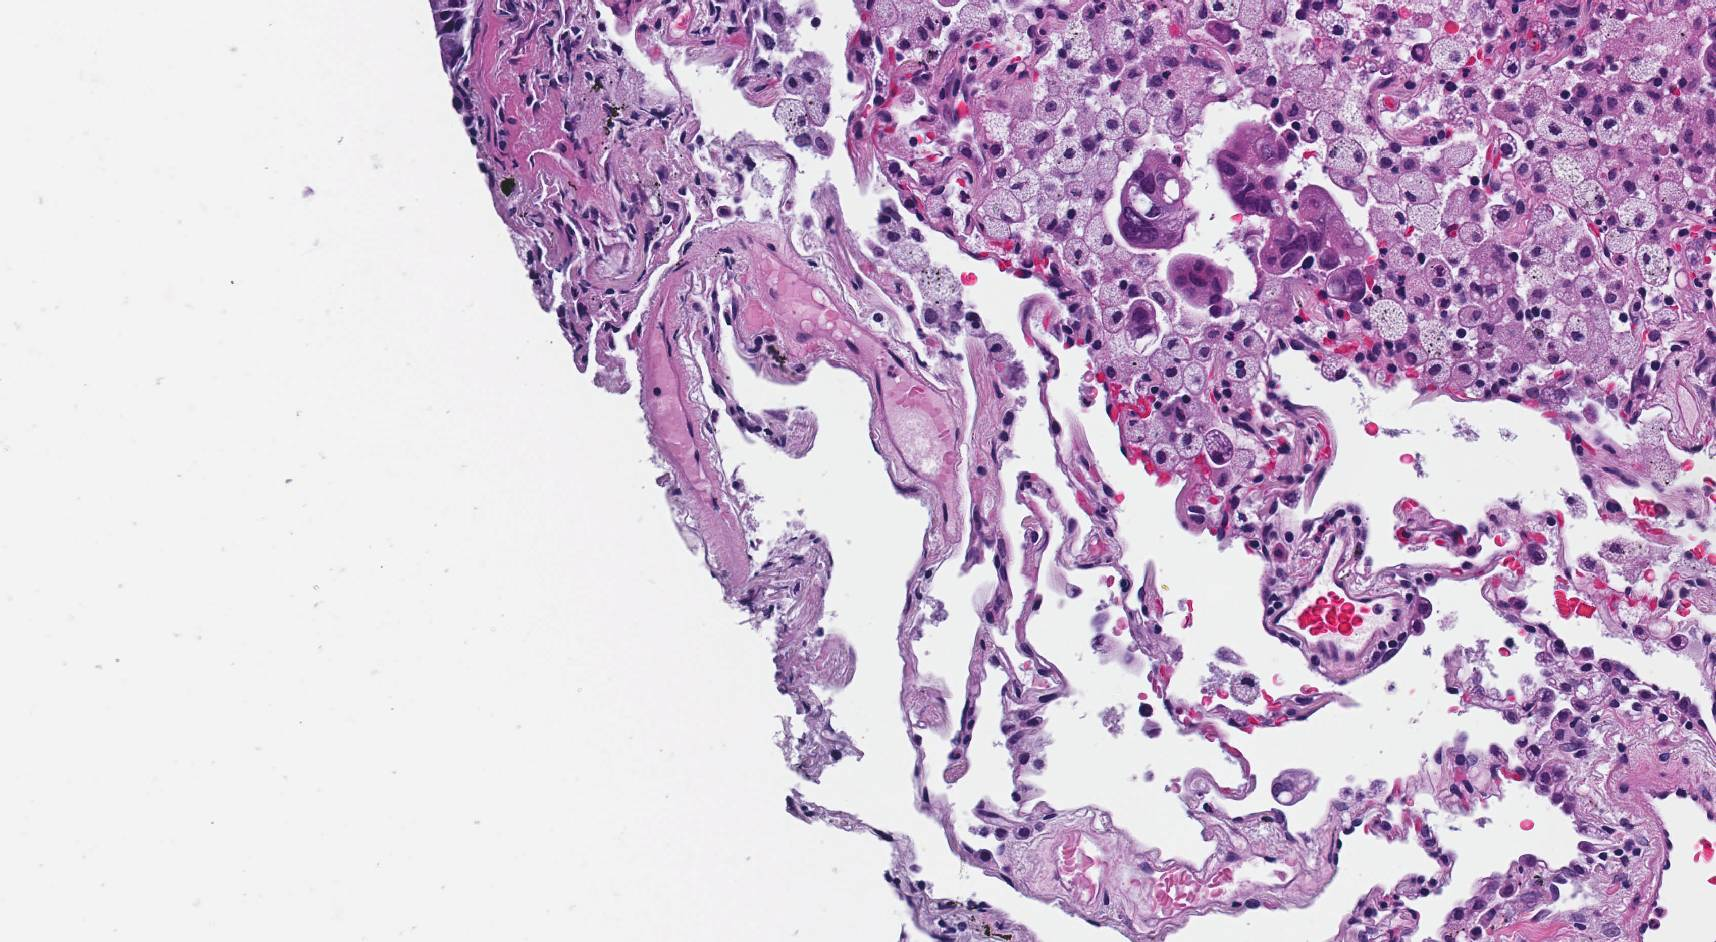stas: (1212, 122, 1373, 302), (1116, 148, 1195, 250), (1167, 256, 1233, 309), (1123, 299, 1160, 352)
